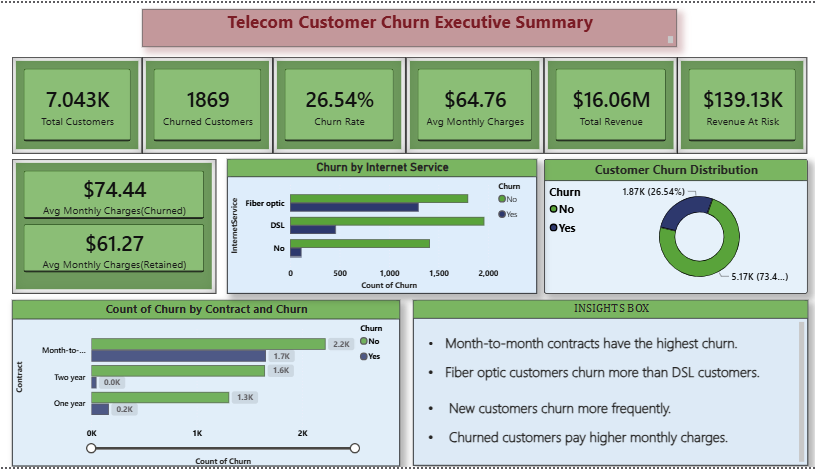

What the dashboard file says about the page in this screenshot:
{"tool":"powerbi","page":{"name":"Page 1","canvas":[1280,720],"ordinal":0},"visuals":[{"type":"donutChart","title":"Customer Churn Distribution","fields":{"Y":["CountNonNull(telco_churn_cleaned.Churn)"],"Category":["telco_churn_cleaned.Churn"]},"box":[843.3,242.4,409.3,208.6],"z":0},{"type":"clusteredBarChart","title":"Count of Churn by Contract and Churn","fields":{"Category":["telco_churn_cleaned.Contract"],"Y":["CountNonNull(telco_churn_cleaned.Churn)"],"Series":["telco_churn_cleaned.Churn"]},"box":[18.2,461.4,602.2,258.1],"z":1000},{"type":"clusteredBarChart","title":"Churn by Internet Service","fields":{"Category":["telco_churn_cleaned.InternetService"],"Y":["CountNonNull(telco_churn_cleaned.Churn)"],"Series":["telco_churn_cleaned.Churn"]},"box":[351.9,242.4,481,208.6],"z":2000},{"type":"cardVisual","fields":{"Data":["telco_churn_cleaned.Total Customers"]},"box":[18.2,83.4,202,149.9],"z":3000},{"type":"cardVisual","fields":{"Data":["telco_churn_cleaned.Churned Customers"]},"box":[220.3,83.4,203.3,149.9],"z":4000},{"type":"cardVisual","fields":{"Data":["telco_churn_cleaned.Churn Rate"]},"box":[423.6,83.4,205.9,149.9],"z":5000},{"type":"cardVisual","fields":{"Data":["telco_churn_cleaned.Avg Monthly Charges"]},"box":[629.6,83.4,213.8,149.9],"z":6000},{"type":"cardVisual","fields":{"Data":["telco_churn_cleaned.Avg Monthly Charges(Churned)","telco_churn_cleaned.Avg Monthly Charges(Retained)"]},"box":[18.2,242.4,316.7,208.6],"z":7000},{"type":"cardVisual","fields":{"Data":["telco_churn_cleaned.Total Revenue"]},"box":[843.3,83.4,207.3,149.9],"z":8000},{"type":"cardVisual","fields":{"Data":["telco_churn_cleaned.Revenue At Risk"]},"box":[1050.6,83.4,202,149.9],"z":9000},{"type":"textbox","title":"Telecom Customer Churn Executive Summary","box":[220.3,9.1,830.3,58.7],"z":10000},{"type":"textbox","title":"INSIGHTS BOX","box":[640,461.2,613.3,257.3],"z":11000}]}

Visuals, with their boxes in screenshot pixels (x1, y1, x2, y2), scaled from the page's 1280x720 canvas onto the 815x472 screenshot:
"Customer Churn Distribution" donutChart: pyautogui.locateOnScreen(537, 159, 798, 296)
"Count of Churn by Contract and Churn" clusteredBarChart: pyautogui.locateOnScreen(12, 302, 395, 471)
"Churn by Internet Service" clusteredBarChart: pyautogui.locateOnScreen(224, 159, 530, 296)
cardVisual - telco_churn_cleaned.Total Customers: pyautogui.locateOnScreen(12, 55, 140, 153)
cardVisual - telco_churn_cleaned.Churned Customers: pyautogui.locateOnScreen(140, 55, 270, 153)
cardVisual - telco_churn_cleaned.Churn Rate: pyautogui.locateOnScreen(270, 55, 401, 153)
cardVisual - telco_churn_cleaned.Avg Monthly Charges: pyautogui.locateOnScreen(401, 55, 537, 153)
cardVisual - telco_churn_cleaned.Avg Monthly Charges(Churned) x telco_churn_cleaned.Avg Monthly Charges(Retained): pyautogui.locateOnScreen(12, 159, 213, 296)
cardVisual - telco_churn_cleaned.Total Revenue: pyautogui.locateOnScreen(537, 55, 669, 153)
cardVisual - telco_churn_cleaned.Revenue At Risk: pyautogui.locateOnScreen(669, 55, 798, 153)
"Telecom Customer Churn Executive Summary" textbox: pyautogui.locateOnScreen(140, 6, 669, 44)
"INSIGHTS BOX" textbox: pyautogui.locateOnScreen(408, 302, 798, 471)
